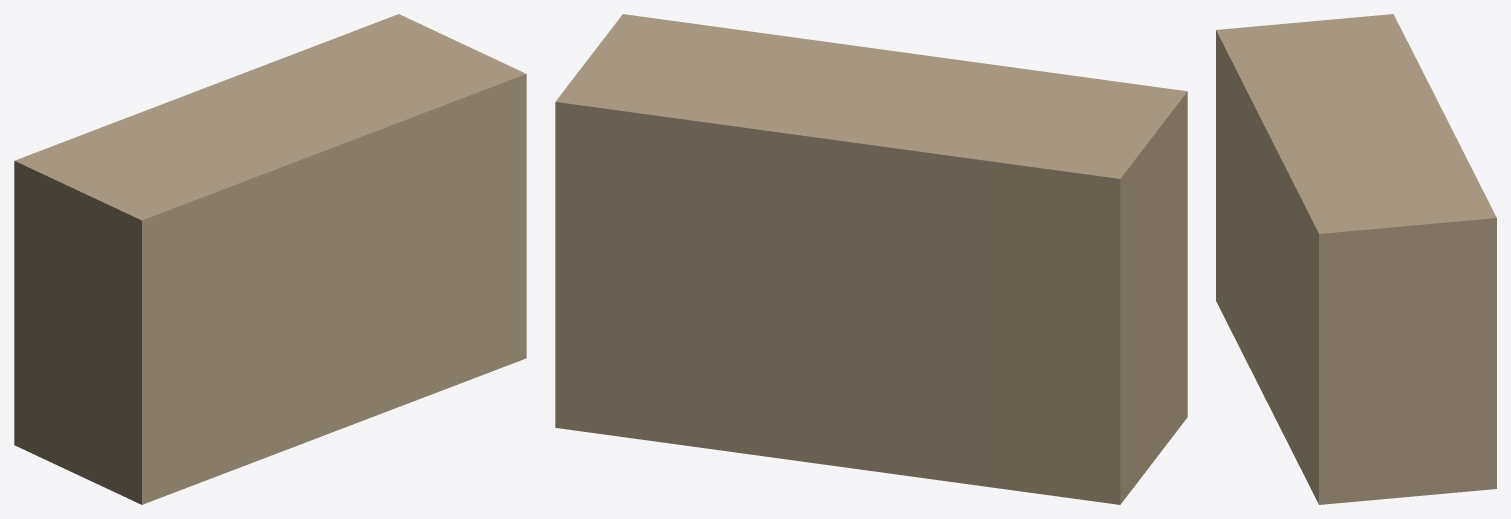
File: bld_107639507.dae
3 renders of one model, left to right at view 1: azimuth 30°, elevation 25°; view 2: azimuth 150°, elevation 25°; view 3: azimuth 270°, elevation 25°, orthographic. The views are drawn at different scales.
Visible parts, largest first — view 1: bld_107639507; view 2: bld_107639507; view 3: bld_107639507.
Part boxes in pixels (<box>): bld_107639507: <box>14,14,526,504</box>; bld_107639507: <box>555,14,1187,504</box>; bld_107639507: <box>1216,14,1496,504</box>.
Size of the model in its own units: 13.92 by 7.51 by 8.
